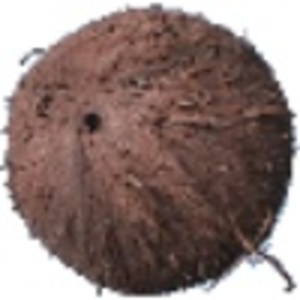coco: (1, 5, 300, 297)
